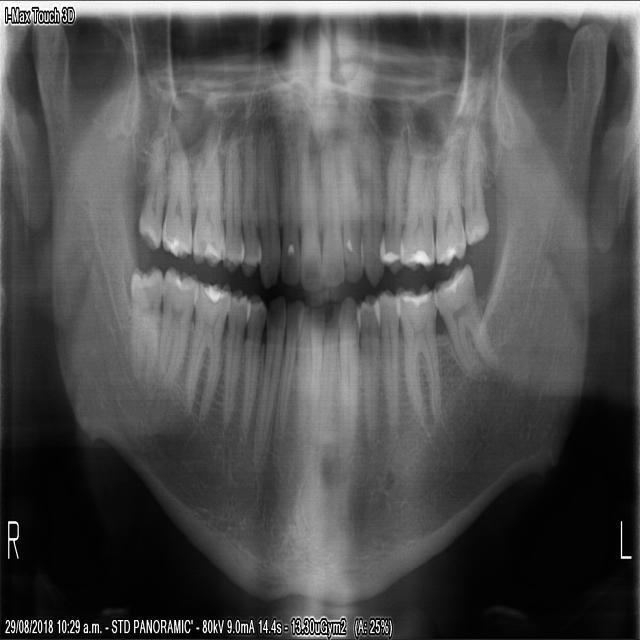LCD: (337, 295, 358, 471)
LCU: (358, 123, 385, 289)
LID: (320, 304, 339, 470), (307, 306, 326, 462)
LIU: (320, 125, 346, 289), (339, 118, 361, 287)
LMD: (437, 250, 504, 389), (401, 281, 444, 445)
LMU: (401, 128, 435, 268), (435, 121, 466, 273), (464, 123, 494, 256)
LPMD: (381, 284, 401, 442), (361, 289, 380, 451)
LPMU: (378, 123, 407, 270)
RCD: (245, 292, 286, 471)
RCU: (255, 128, 278, 293)
RID: (268, 295, 301, 451), (292, 303, 310, 457)
RIU: (296, 132, 321, 298), (277, 123, 296, 289)
RMD: (177, 271, 227, 446), (148, 265, 194, 396), (124, 256, 161, 393)
RMU: (155, 143, 192, 264), (188, 140, 222, 270), (133, 131, 163, 261)
RPMD: (235, 292, 268, 448), (220, 289, 248, 431)
RPMU: (237, 123, 259, 282), (220, 128, 241, 273)
